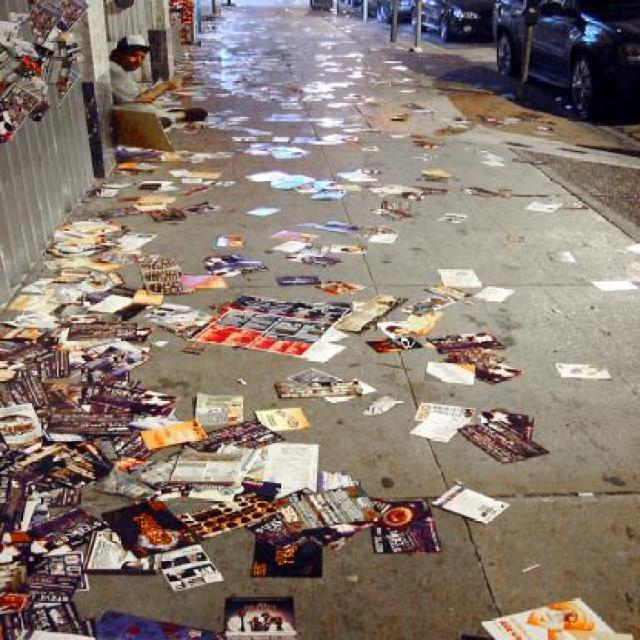garbage: (0, 218, 314, 636), (320, 277, 516, 386), (180, 23, 329, 154), (90, 148, 233, 220), (413, 397, 569, 458), (2, 2, 66, 144), (383, 485, 492, 559), (483, 597, 632, 640), (351, 165, 468, 210), (243, 158, 342, 203), (341, 52, 414, 84), (548, 359, 626, 388), (526, 194, 593, 220)
